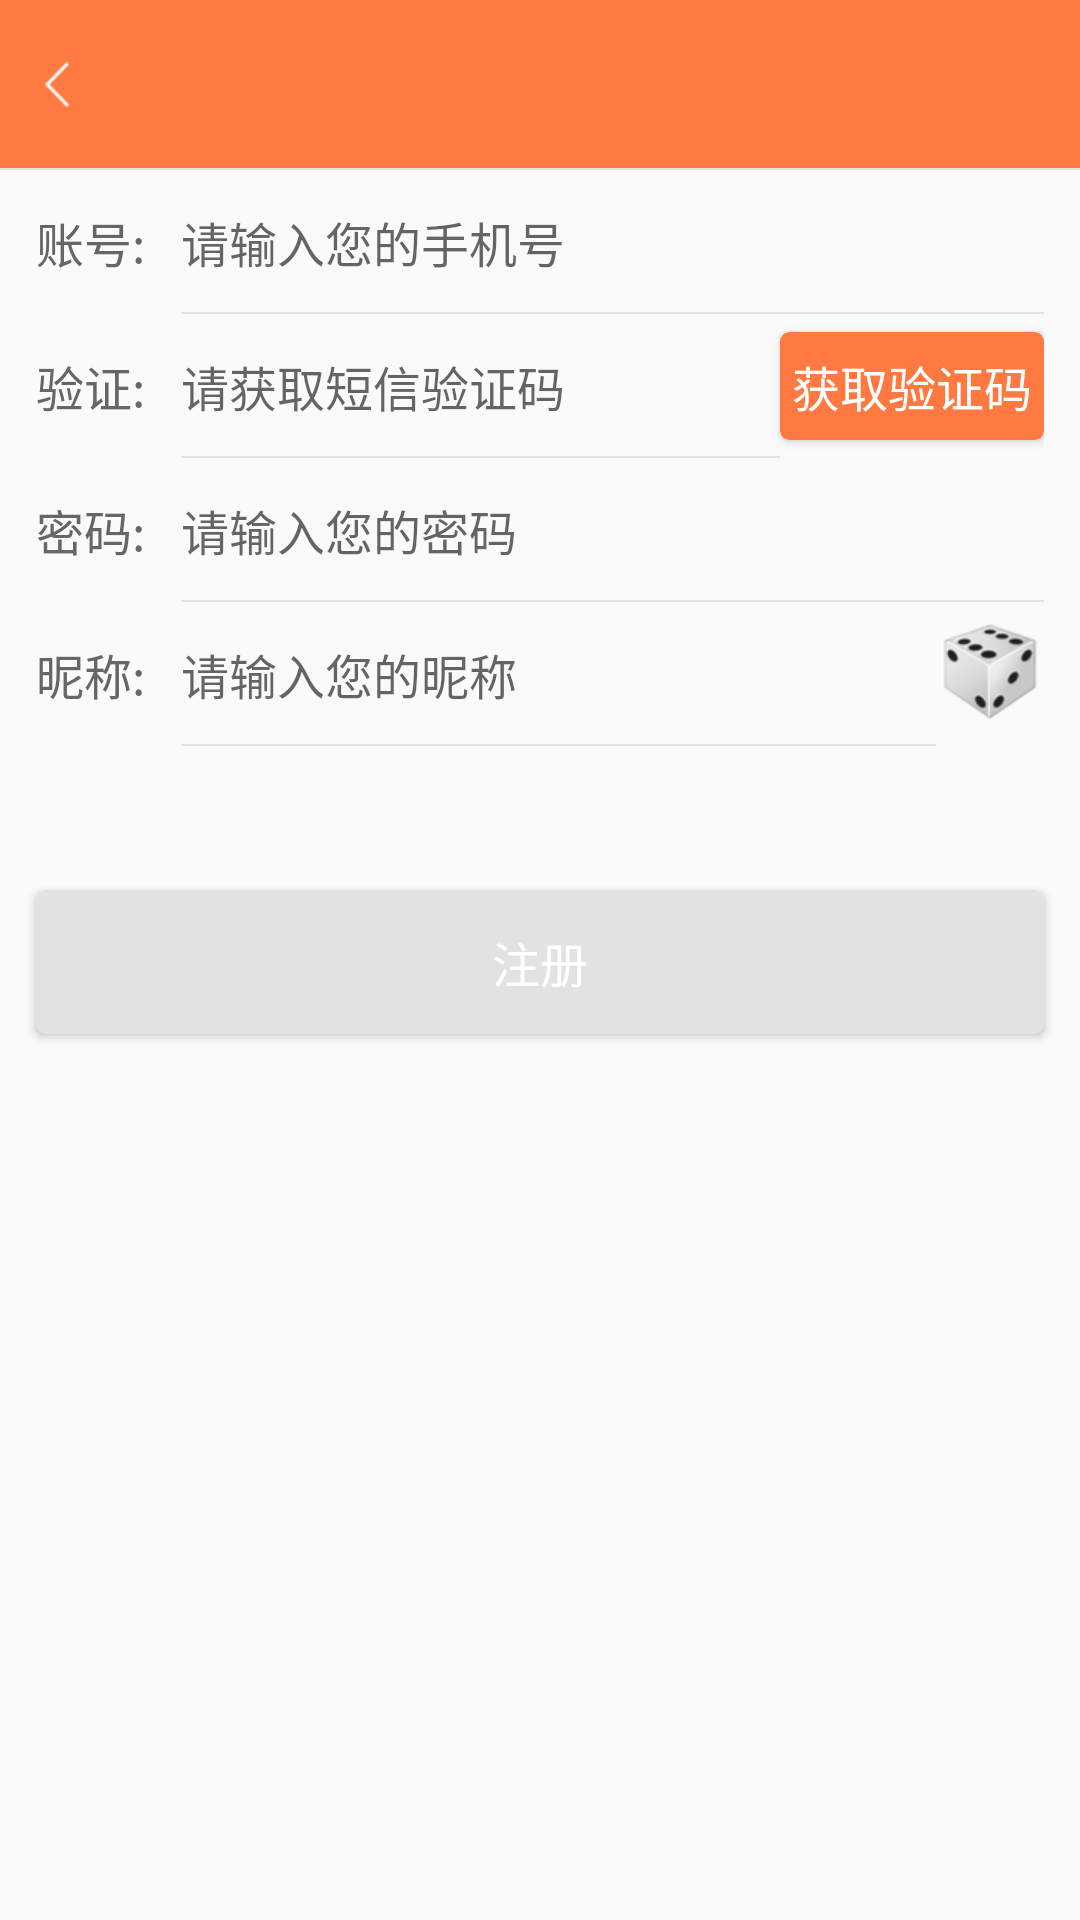

Where icons sit on this 1080*1920 app screen, as detection(x1, y1, x2, y2):
arrow back: detection(45, 62, 69, 107)
dice: detection(944, 625, 1036, 718)
